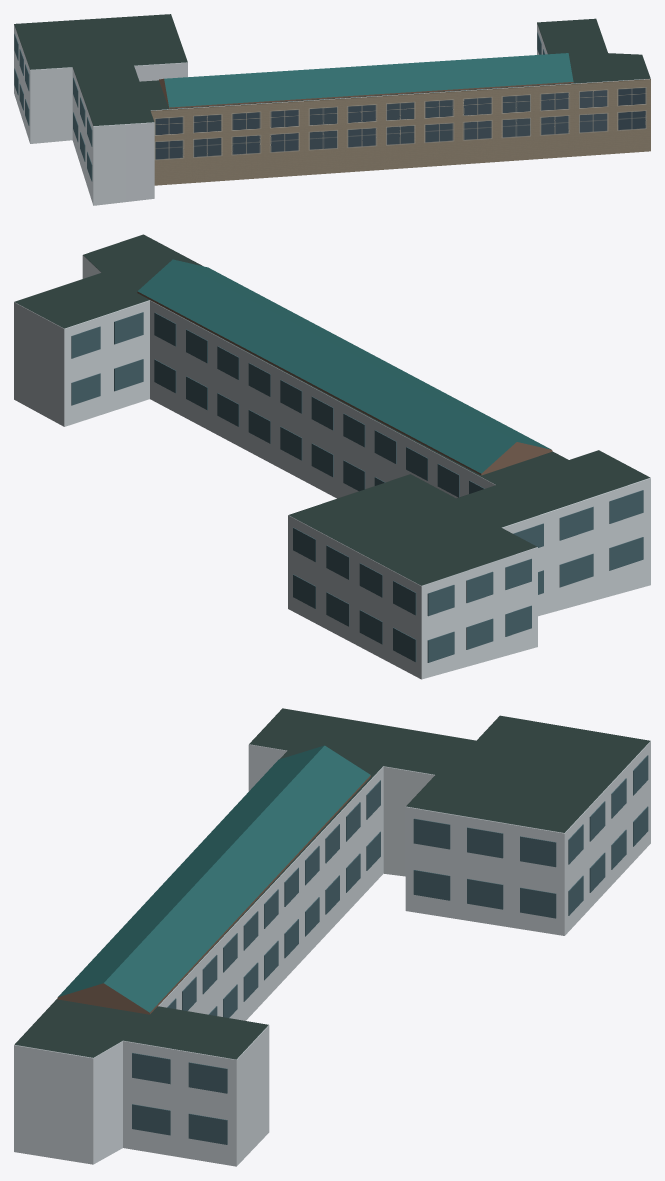
Rendered from fragments.glb.
The picture shows the model from 3 angles, top to bottom: view 1: azimuth 30°, elevation 25°; view 2: azimuth 150°, elevation 25°; view 3: azimuth 270°, elevation 25°; orthographic projection. The views are drawn at different scales.
Parts seen in each view (by area): view 1: SM_educgrad_Fragment_019, SM_educgrad_Fragment_000, SM_educgrad_Fragment_002, SM_educgrad_Fragment_041, SM_educgrad_Fragment_034, SM_educgrad_Fragment_025, SM_educgrad_Fragment_029, SM_educgrad_Fragment_052, SM_educgrad_Fragment_042, SM_educgrad_Fragment_006, SM_educgrad_Fragment_039, SM_educgrad_Fragment_056 (+29 smaller); view 2: SM_educgrad_Fragment_013, SM_educgrad_Fragment_020, SM_educgrad_Fragment_015, SM_educgrad_Fragment_040, SM_educgrad_Fragment_010, SM_educgrad_Fragment_005, SM_educgrad_Fragment_047, SM_educgrad_Fragment_027, SM_educgrad_Fragment_051, SM_educgrad_Fragment_009, SM_educgrad_Fragment_002, SM_educgrad_Fragment_022 (+32 smaller); view 3: SM_educgrad_Fragment_032, SM_educgrad_Fragment_003, SM_educgrad_Fragment_036, SM_educgrad_Fragment_031, SM_educgrad_Fragment_020, SM_educgrad_Fragment_059, SM_educgrad_Fragment_010, SM_educgrad_Fragment_005, SM_educgrad_Fragment_008, SM_educgrad_Fragment_009, SM_educgrad_Fragment_012, SM_educgrad_Fragment_007 (+30 smaller).
Part boxes in pixels (left/top/right/bottom): SM_educgrad_Fragment_019: left=244, top=71, right=322, bottom=147; SM_educgrad_Fragment_000: left=397, top=78, right=471, bottom=167; SM_educgrad_Fragment_002: left=87, top=106, right=154, bottom=181; SM_educgrad_Fragment_041: left=332, top=63, right=418, bottom=126; SM_educgrad_Fragment_034: left=458, top=56, right=543, bottom=118; SM_educgrad_Fragment_025: left=313, top=114, right=391, bottom=173; SM_educgrad_Fragment_029: left=187, top=83, right=246, bottom=154; SM_educgrad_Fragment_052: left=572, top=77, right=643, bottom=149; SM_educgrad_Fragment_042: left=461, top=117, right=538, bottom=164; SM_educgrad_Fragment_006: left=25, top=80, right=78, bottom=154; SM_educgrad_Fragment_039: left=230, top=142, right=321, bottom=180; SM_educgrad_Fragment_056: left=524, top=80, right=575, bottom=149; SM_educgrad_Fragment_013: left=538, top=488, right=615, bottom=616; SM_educgrad_Fragment_020: left=248, top=332, right=336, bottom=440; SM_educgrad_Fragment_015: left=378, top=567, right=458, bottom=677; SM_educgrad_Fragment_040: left=440, top=535, right=537, bottom=607; SM_educgrad_Fragment_010: left=214, top=294, right=321, bottom=386; SM_educgrad_Fragment_005: left=14, top=290, right=103, bottom=358; SM_educgrad_Fragment_047: left=27, top=349, right=103, bottom=426; SM_educgrad_Fragment_027: left=154, top=283, right=229, bottom=379; SM_educgrad_Fragment_051: left=380, top=390, right=469, bottom=480; SM_educgrad_Fragment_009: left=321, top=356, right=426, bottom=442; SM_educgrad_Fragment_002: left=587, top=452, right=650, bottom=541; SM_educgrad_Fragment_022: left=101, top=335, right=159, bottom=414; SM_educgrad_Fragment_032: left=14, top=1016, right=120, bottom=1106; SM_educgrad_Fragment_003: left=14, top=1086, right=153, bottom=1164; SM_educgrad_Fragment_036: left=128, top=1011, right=217, bottom=1135; SM_educgrad_Fragment_031: left=152, top=1088, right=248, bottom=1166; SM_educgrad_Fragment_020: left=188, top=871, right=278, bottom=995; SM_educgrad_Fragment_059: left=460, top=810, right=543, bottom=913; SM_educgrad_Fragment_010: left=119, top=889, right=230, bottom=994; SM_educgrad_Fragment_005: left=188, top=1016, right=269, bottom=1096; SM_educgrad_Fragment_008: left=57, top=955, right=188, bottom=1023; SM_educgrad_Fragment_009: left=189, top=816, right=296, bottom=927; SM_educgrad_Fragment_012: left=405, top=847, right=483, bottom=921; SM_educgrad_Fragment_007: left=356, top=742, right=460, bottom=823.
Size of the model in its own units: 2.2 by 0.4138 by 1.68.
Materials: 7 (1 with a texture image).
